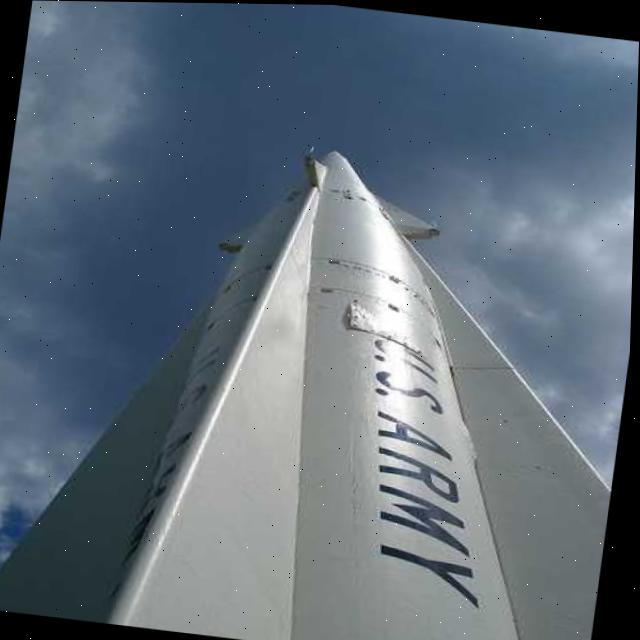missile: (0, 111, 637, 640)
